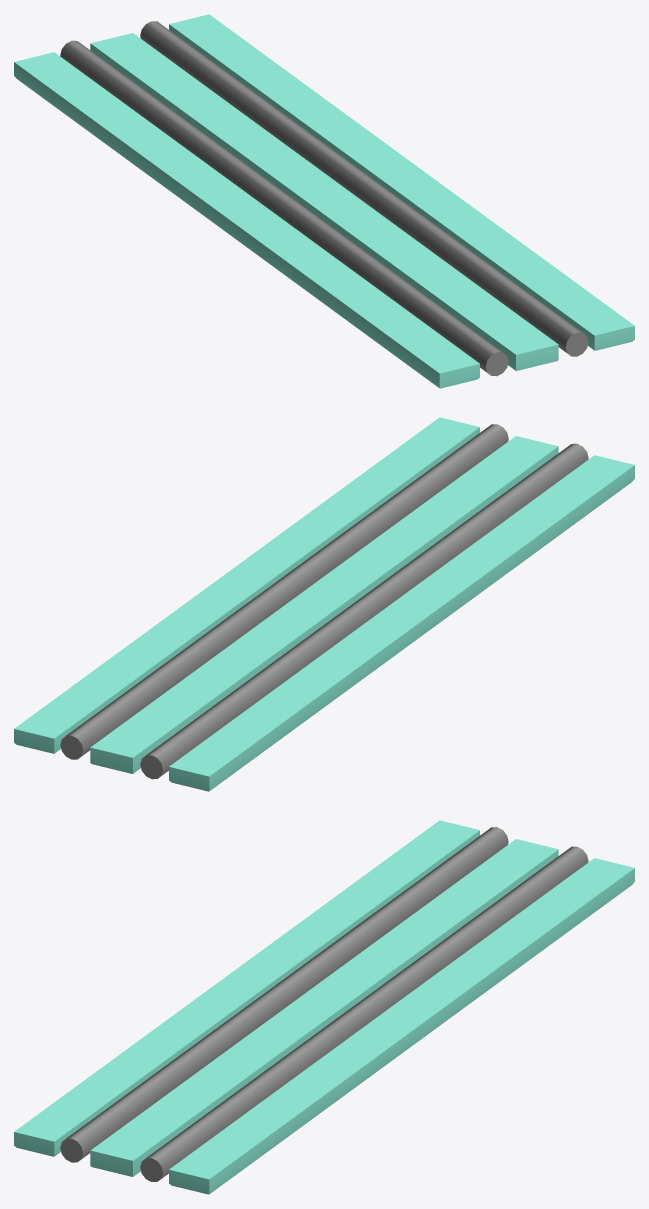
The model's file is light - Copy.FBX.
3 views of the same model, one above another, from view 1: azimuth 30°, elevation 25°; view 2: azimuth 150°, elevation 25°; view 3: azimuth 330°, elevation 25° (orthographic).
Parts seen in each view (by area): view 1: Box043; view 2: Box043; view 3: Box043.
Boxes of the visible parts, x1,y1,x2,y2 form: Box043: (14,14,634,388); Box043: (14,417,634,791); Box043: (14,820,634,1194).
Bounding box in the file's own units: 3.16 × 0.3816 × 11.95.
